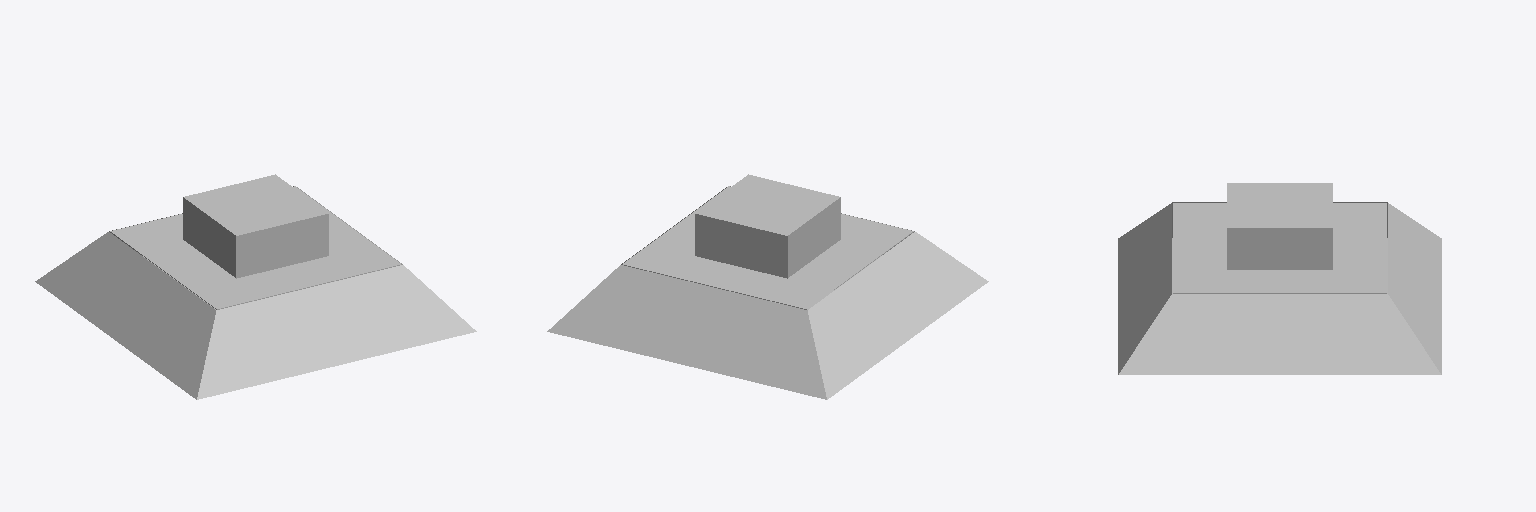
Rendered from button.obj.
3 renders of one model, left to right at view 1: azimuth 30°, elevation 25°; view 2: azimuth 150°, elevation 25°; view 3: azimuth 270°, elevation 25°, orthographic.
Parts seen in each view (by area): view 1: Cube.001_Cube.005, Cube_Cube.006; view 2: Cube.001_Cube.005, Cube_Cube.006; view 3: Cube.001_Cube.005, Cube_Cube.006.
Part boxes in pixels (x1,y1,x2,y2): Cube.001_Cube.005: (35,186,476,399); Cube_Cube.006: (183,174,328,278); Cube.001_Cube.005: (547,186,988,399); Cube_Cube.006: (695,174,840,278); Cube.001_Cube.005: (1118,202,1441,374); Cube_Cube.006: (1227,183,1332,269).
Bounding box in the file's own units: 2 × 0.6918 × 2.